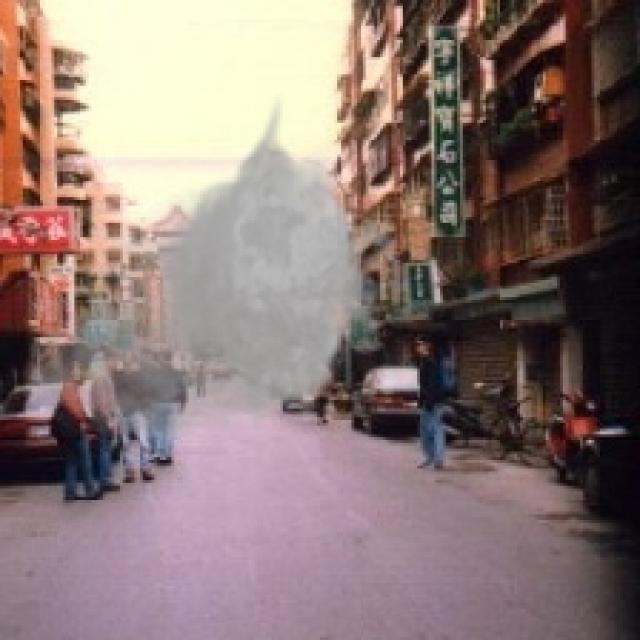Smoke: (17, 91, 412, 460)
